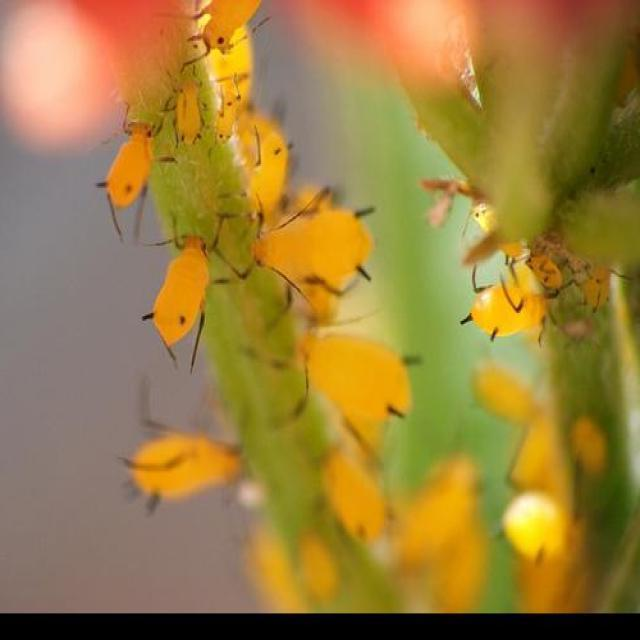aphid: (128, 224, 250, 372), (448, 256, 570, 342), (86, 100, 168, 218)
